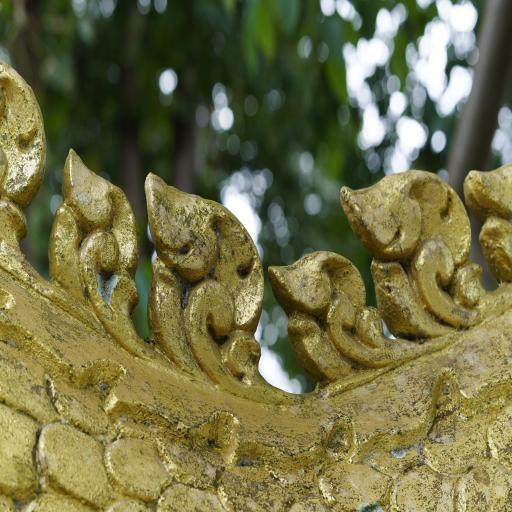la: (137, 155, 263, 376), (354, 152, 473, 338), (51, 130, 144, 348), (263, 230, 388, 392), (0, 55, 44, 275), (464, 148, 512, 302)
